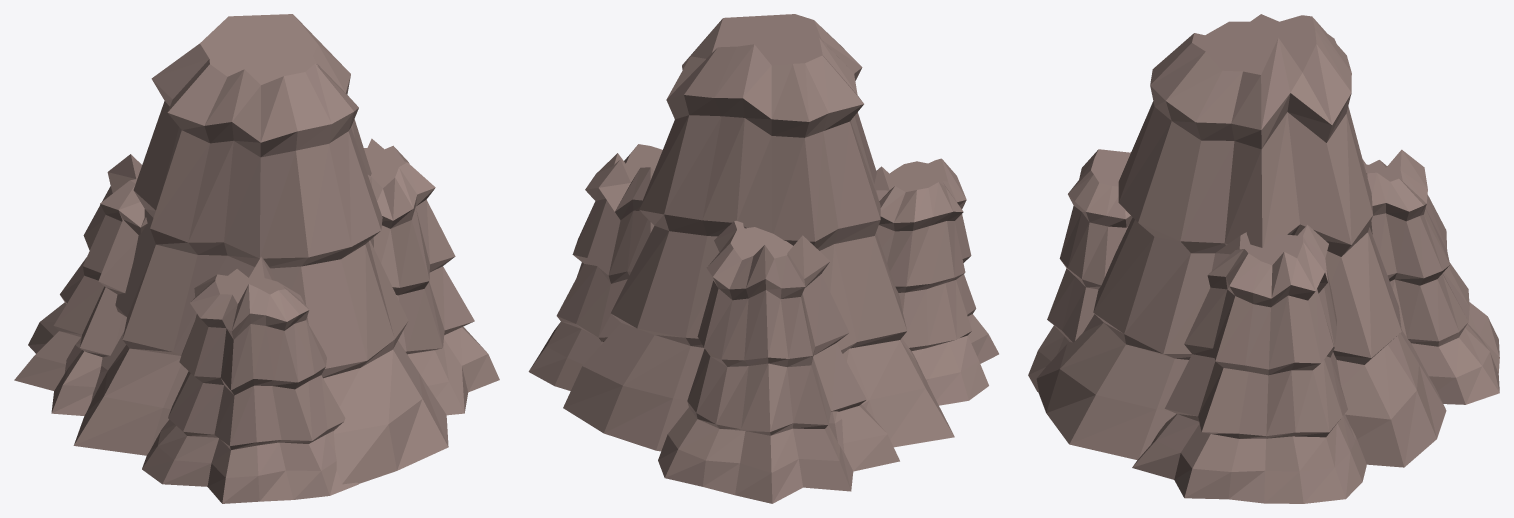
File: mesa_0.glb
The picture shows the model from 3 angles, left to right: view 1: azimuth 30°, elevation 25°; view 2: azimuth 150°, elevation 25°; view 3: azimuth 270°, elevation 25°; orthographic projection. The views are drawn at different scales.
Visible parts, largest first — view 1: Broken main crown; view 2: Broken main crown; view 3: Broken main crown.
Part boxes in pixels (x1,y1,x2,y2): Broken main crown: (14, 14, 499, 503); Broken main crown: (528, 14, 998, 503); Broken main crown: (1028, 14, 1499, 503).
Bounding box in the file's own units: 26.08 × 23.23 × 26.12.
